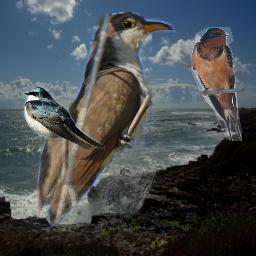Cuckoo: (37, 12, 207, 226)
Swallow: (191, 27, 242, 141), (23, 86, 105, 150)
